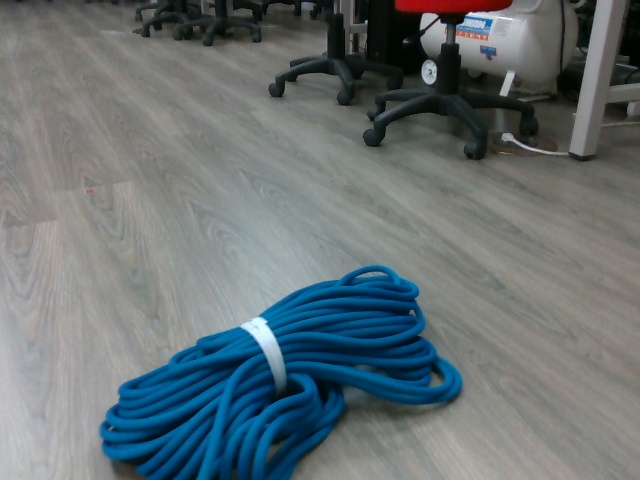rope: (99, 262, 465, 480)
